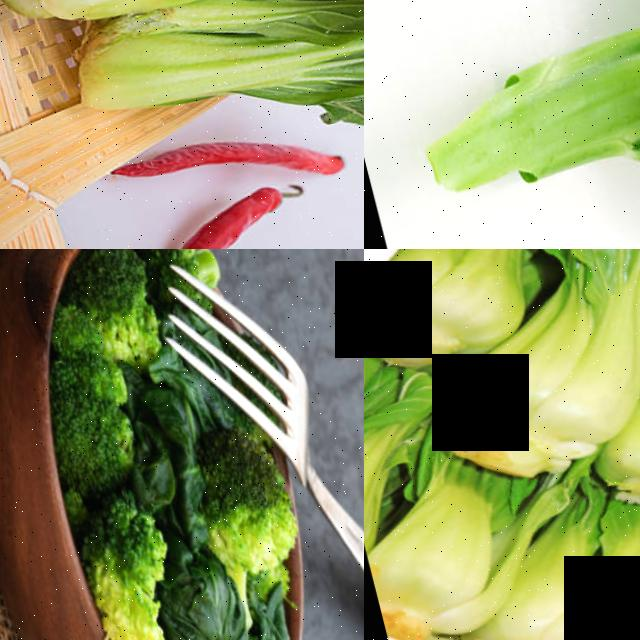bok choy: (446, 249, 640, 490), (87, 0, 364, 150), (364, 485, 534, 640), (364, 249, 586, 361), (485, 517, 640, 640)
broccoli: (364, 0, 640, 249), (192, 423, 314, 616), (41, 334, 148, 512), (84, 501, 194, 640), (86, 249, 179, 375)
